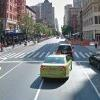Car: (39, 38, 77, 88)
